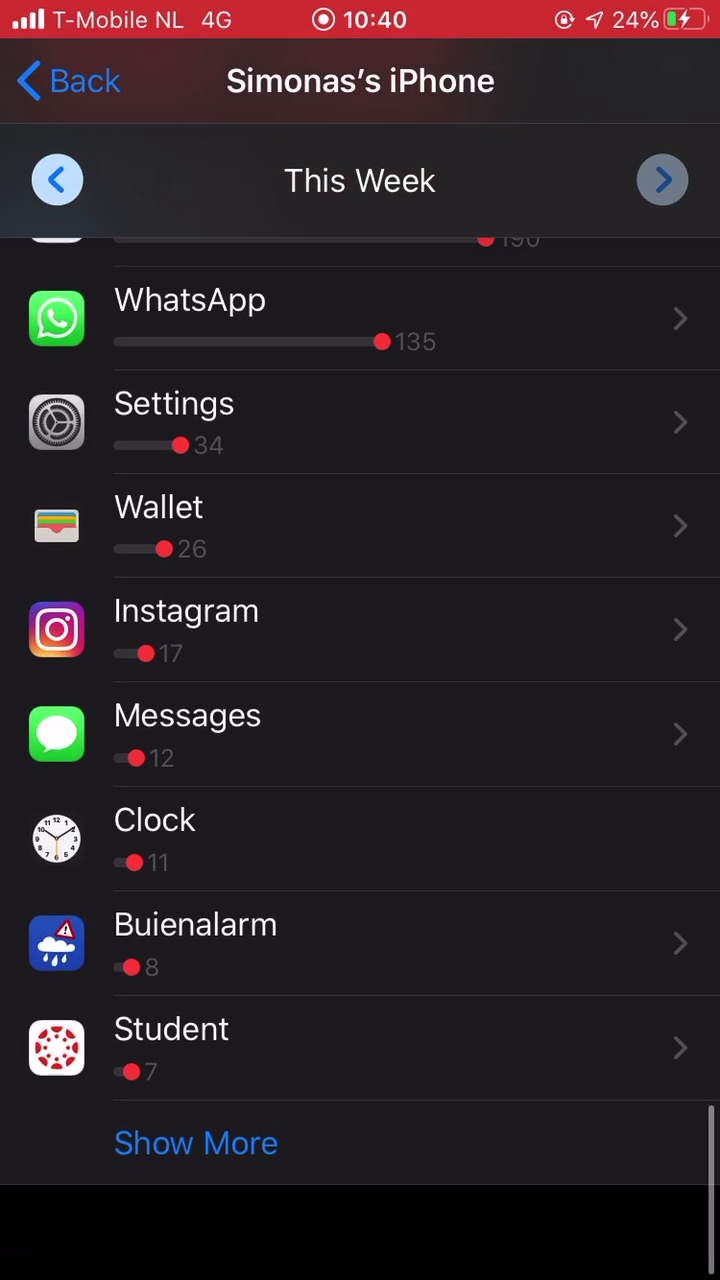not_app: (25, 285, 459, 377), (23, 896, 320, 989), (20, 691, 345, 772), (21, 588, 320, 669), (31, 1007, 296, 1089), (20, 800, 301, 875), (28, 386, 264, 466), (23, 478, 253, 553)
week: (279, 142, 446, 199)
